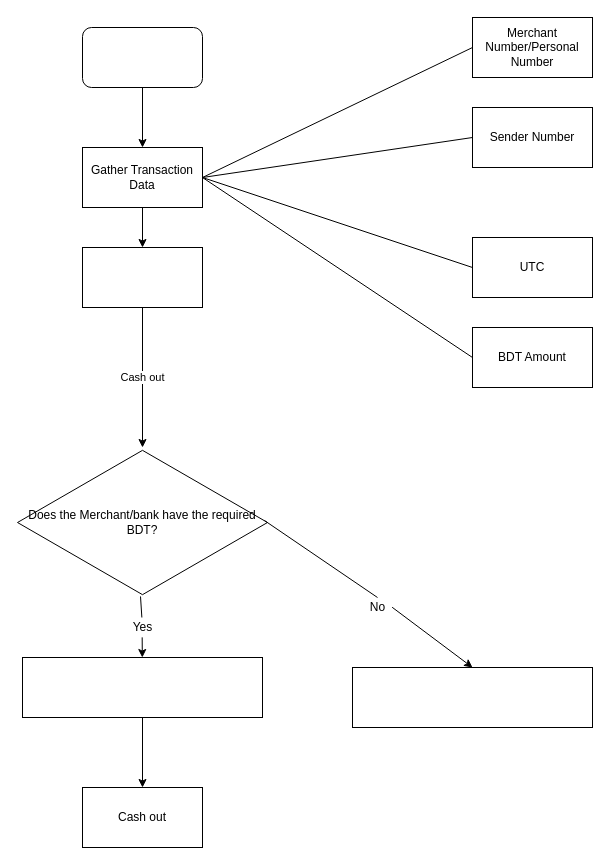
Image size: 610x865. Some labels were removed from this diagram. Each missing label, with the centre of its shape:
"Generate NONCE based on Transaction Data" goes at point (142, 277).
"Go to another Merchant/bank" goes at point (472, 697).
"Provide NONCE and put Two Factor Authentication Code" goes at point (142, 687).
"Start" goes at point (142, 57).
